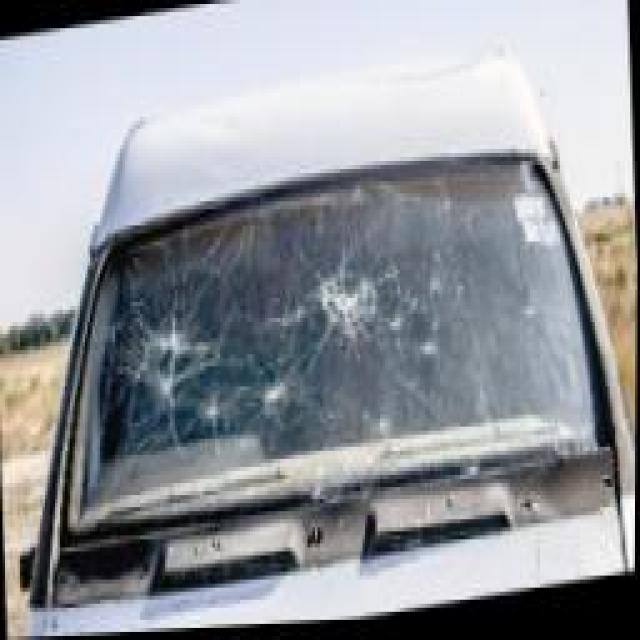Windshield: (65, 137, 613, 569)
